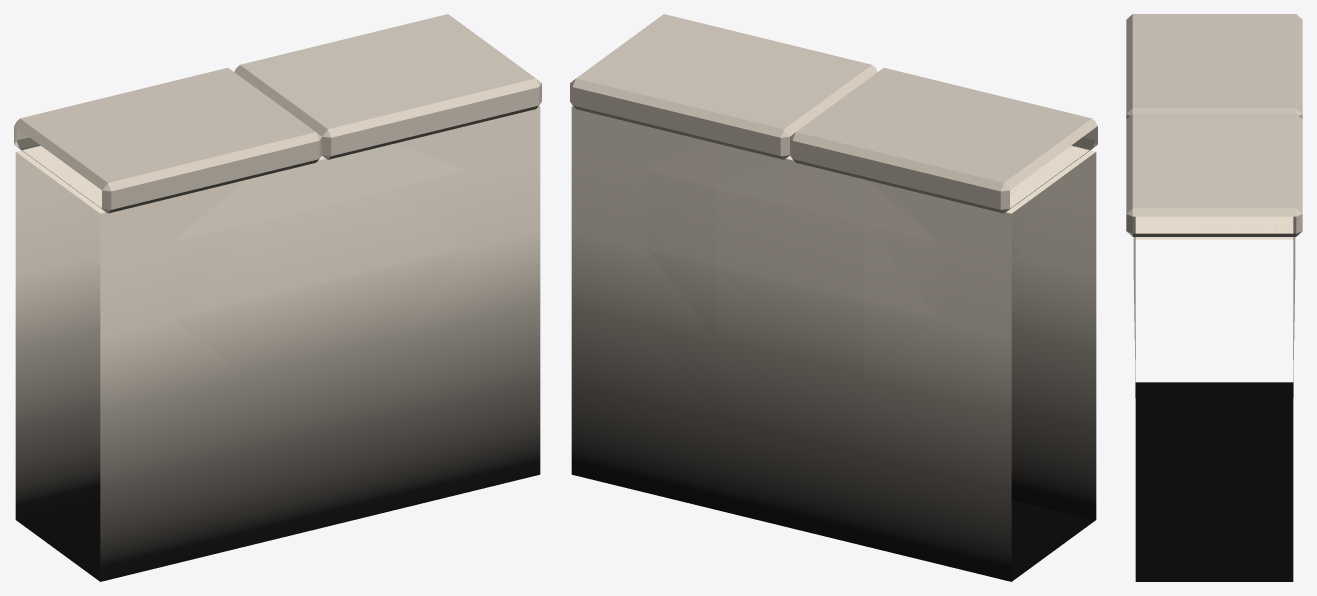
Rendered from SM_VKI_Wall_Stone_Plain_150A_Cut.fbx.
3 views of the same model, side by side, from view 1: azimuth 30°, elevation 25°; view 2: azimuth 150°, elevation 25°; view 3: azimuth 270°, elevation 25° (orthographic). The views are drawn at different scales.
Visible parts, largest first — view 1: SM_VKI_Wall_Stone_Plain_150A_Cut.001; view 2: SM_VKI_Wall_Stone_Plain_150A_Cut.001; view 3: SM_VKI_Wall_Stone_Plain_150A_Cut.001.
Boxes of the visible parts, x1=… form: SM_VKI_Wall_Stone_Plain_150A_Cut.001: x1=14, y1=14, x2=541, y2=581; SM_VKI_Wall_Stone_Plain_150A_Cut.001: x1=570, y1=14, x2=1097, y2=581; SM_VKI_Wall_Stone_Plain_150A_Cut.001: x1=1126, y1=14, x2=1302, y2=581.
Size of the model in its own units: 1.5 by 1.3 by 0.56.
